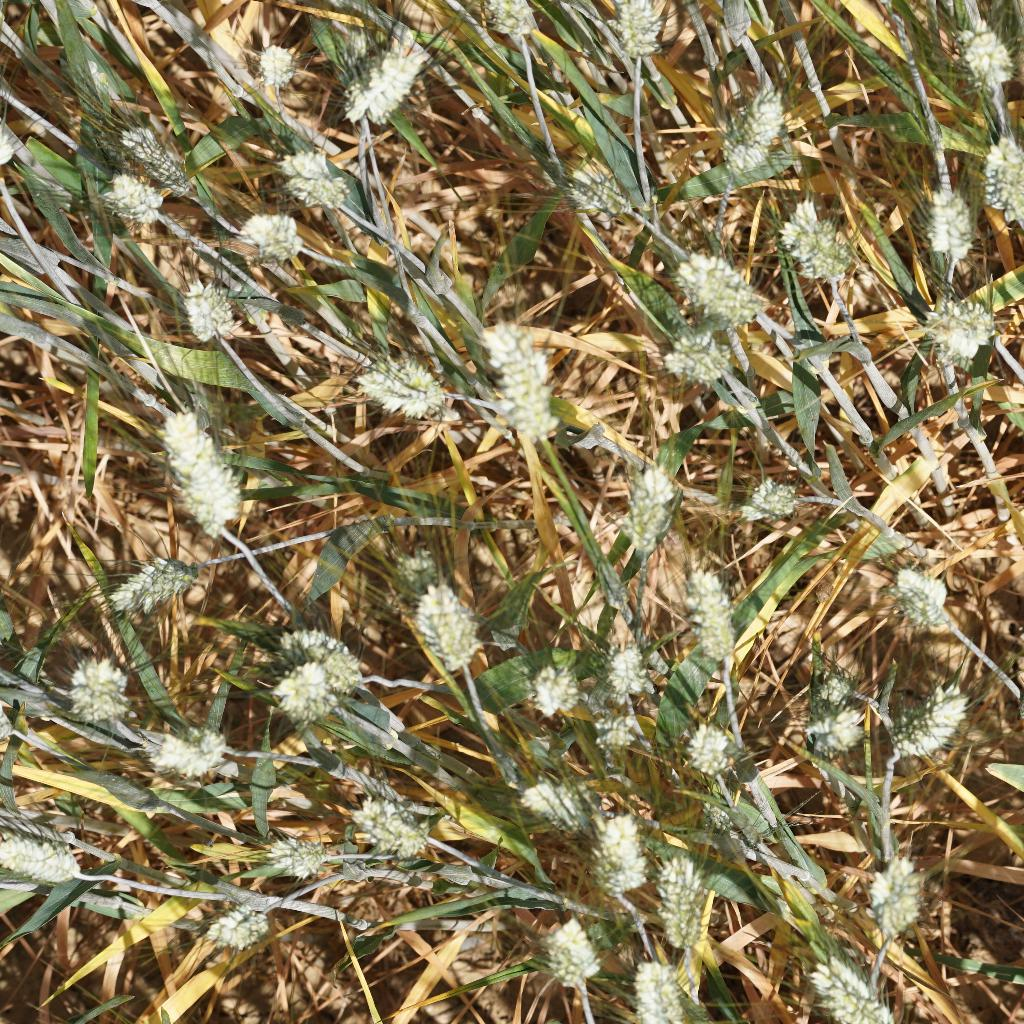0-0: (150, 415, 253, 553), (473, 318, 565, 448), (322, 37, 447, 128), (82, 537, 219, 615), (707, 75, 796, 191), (604, 438, 683, 568), (675, 549, 751, 676), (871, 681, 979, 770), (348, 791, 470, 869), (855, 851, 940, 952), (411, 572, 490, 675), (336, 351, 449, 423), (810, 949, 915, 1024), (877, 553, 964, 639), (167, 262, 247, 355), (586, 813, 657, 916), (680, 251, 769, 333), (0, 826, 98, 899), (275, 653, 370, 728), (961, 120, 1024, 228), (656, 849, 720, 955), (533, 918, 604, 1011), (781, 202, 855, 290), (381, 535, 455, 622), (790, 697, 878, 768), (553, 152, 636, 224), (923, 287, 1001, 363), (641, 322, 729, 389), (103, 111, 189, 178), (949, 22, 1024, 98), (56, 645, 126, 725), (146, 722, 236, 783), (204, 884, 287, 950), (624, 955, 703, 1024), (103, 172, 176, 243), (920, 182, 980, 268), (262, 613, 351, 668), (273, 145, 354, 205), (522, 651, 582, 729), (680, 714, 742, 789), (515, 776, 594, 832), (235, 206, 309, 265), (242, 36, 306, 103), (260, 822, 344, 873), (600, 0, 669, 60), (795, 664, 865, 720), (478, 0, 556, 48), (598, 639, 657, 698), (747, 466, 798, 529), (590, 710, 661, 755), (690, 789, 750, 837)
